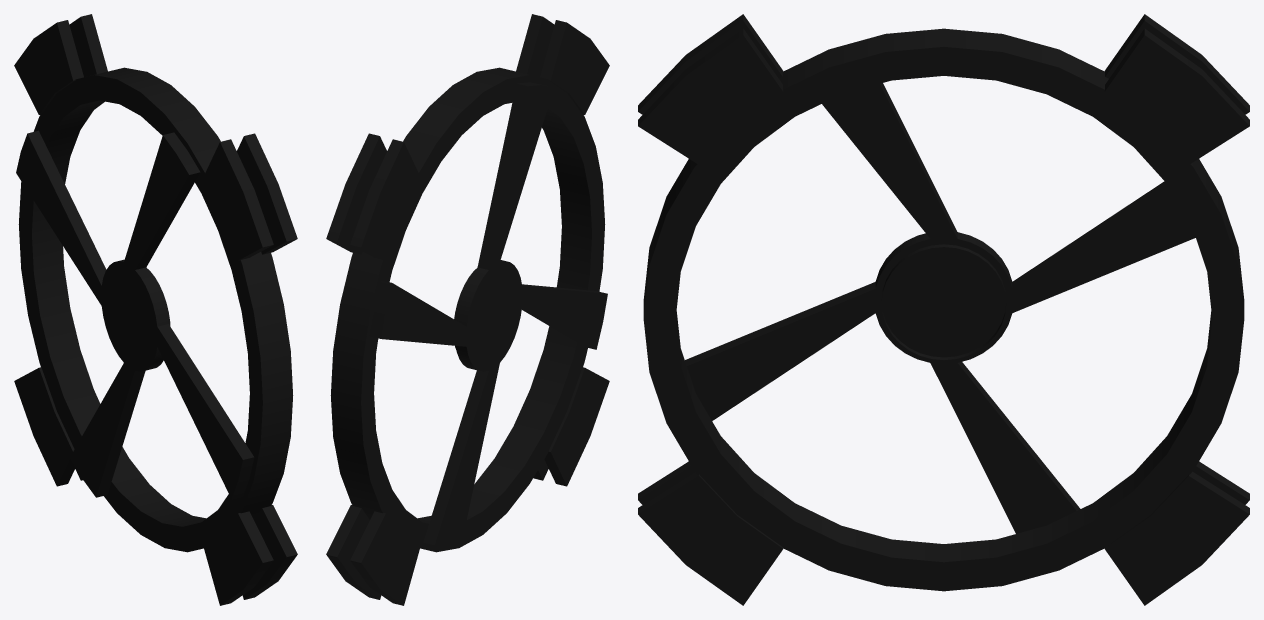
The model's file is Kyler_zad.fbx.
The picture shows the model from 3 angles, left to right: view 1: azimuth 30°, elevation 25°; view 2: azimuth 150°, elevation 25°; view 3: azimuth 270°, elevation 25°; orthographic projection. The views are drawn at different scales.
Visible parts, largest first — view 1: Kyler_zad; view 2: Kyler_zad; view 3: Kyler_zad.
Part boxes in pixels (left/top/right/bottom): Kyler_zad: left=14, top=14, right=297, bottom=605; Kyler_zad: left=326, top=14, right=609, bottom=605; Kyler_zad: left=638, top=14, right=1249, bottom=605.
Size of the model in its own units: 0.0146 by 0.1468 by 0.1426.
